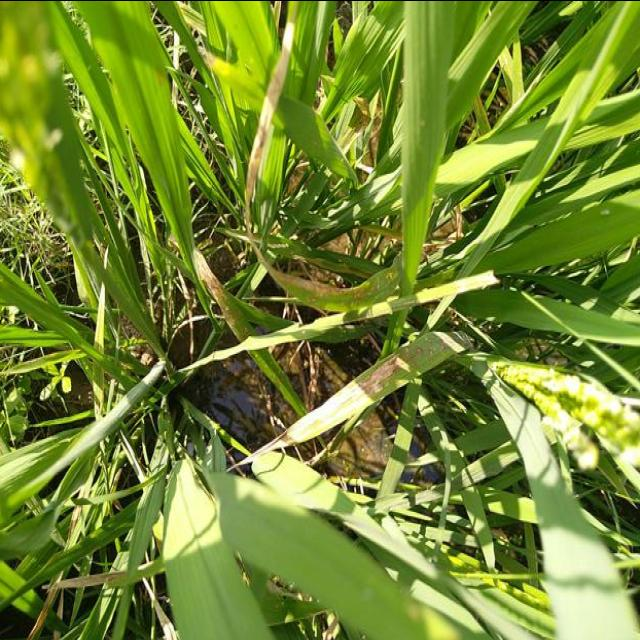Leaf Blight: (245, 21, 398, 295)
Leaf Streak: (229, 331, 473, 468), (193, 246, 254, 341)
